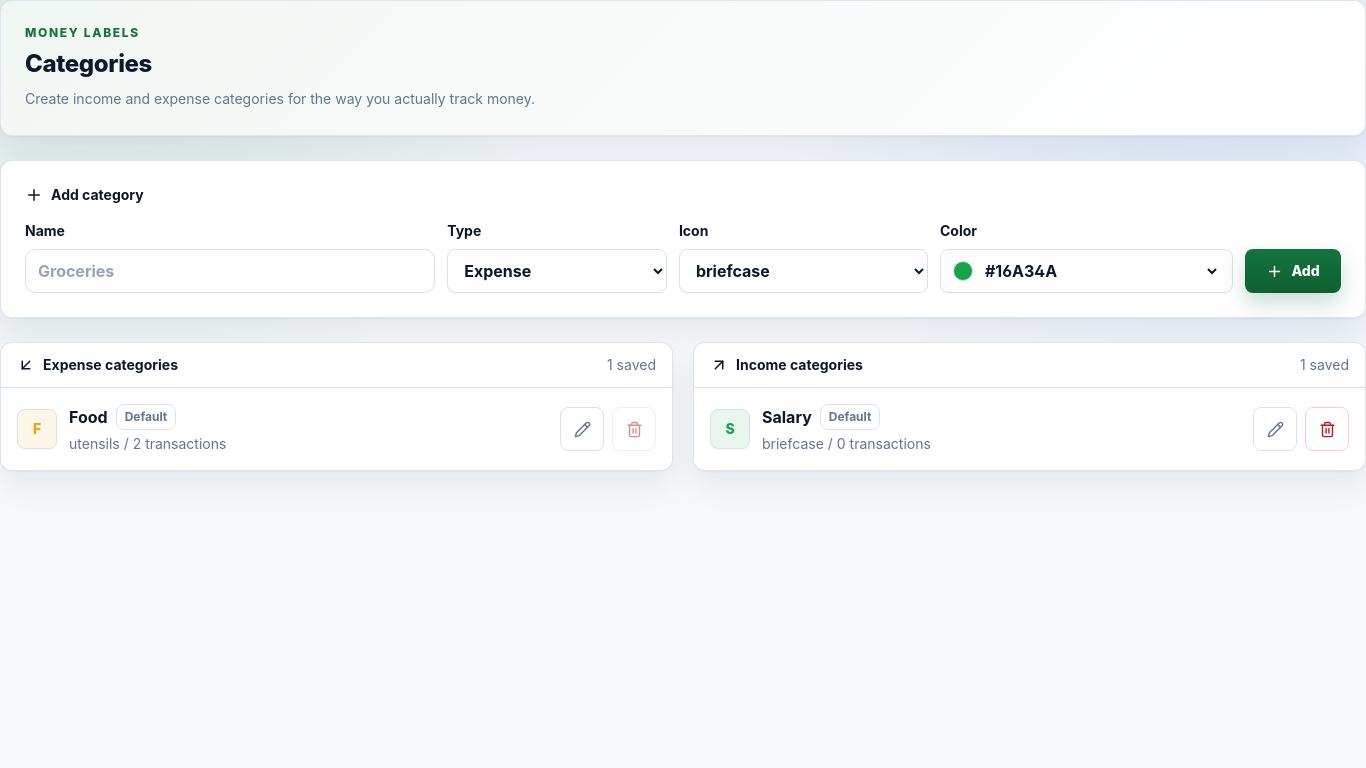
Test: CategoryManager › deletes unused categories after confirmation
Expected: the text "Salary" is shown, [762,405,812,429]
Click the button named "Delete Salary category": {"x": 1327, "y": 429} [1305,407,1349,451]
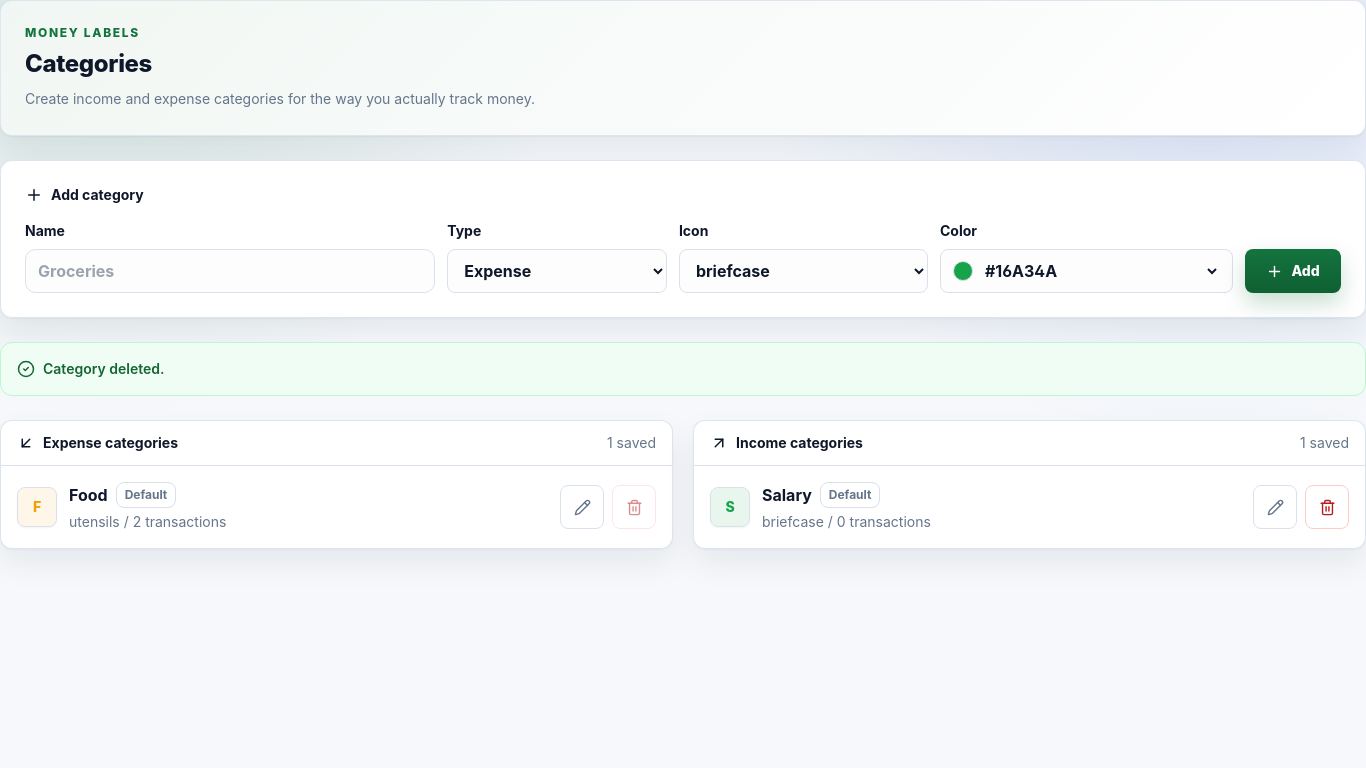
Expected: the message reads "Category deleted.", [43,360,164,377]
